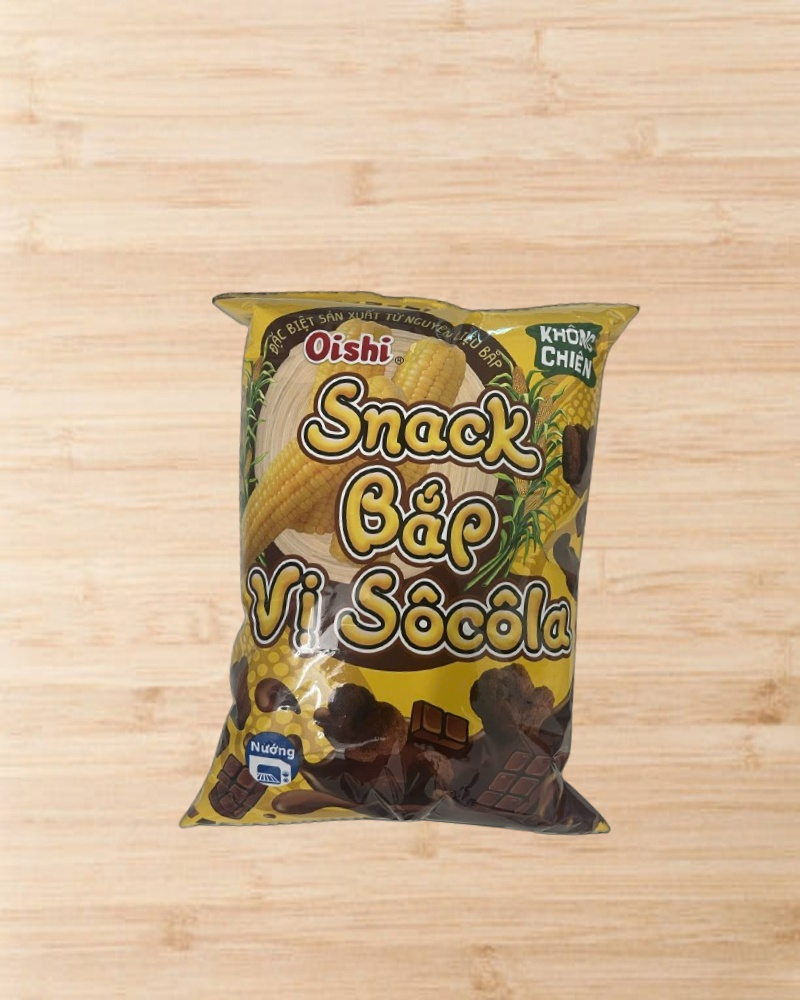Snack socola: (170, 273, 656, 854)
